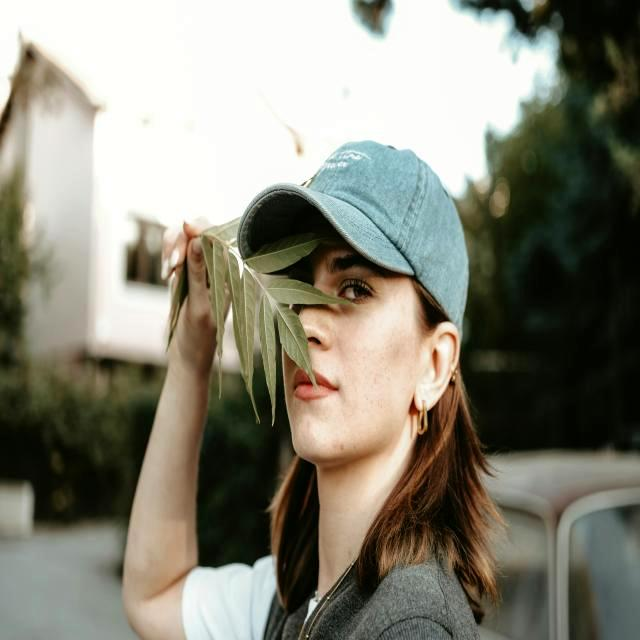no_hard_hat: (237, 141, 469, 336)
person: (123, 142, 497, 640)
